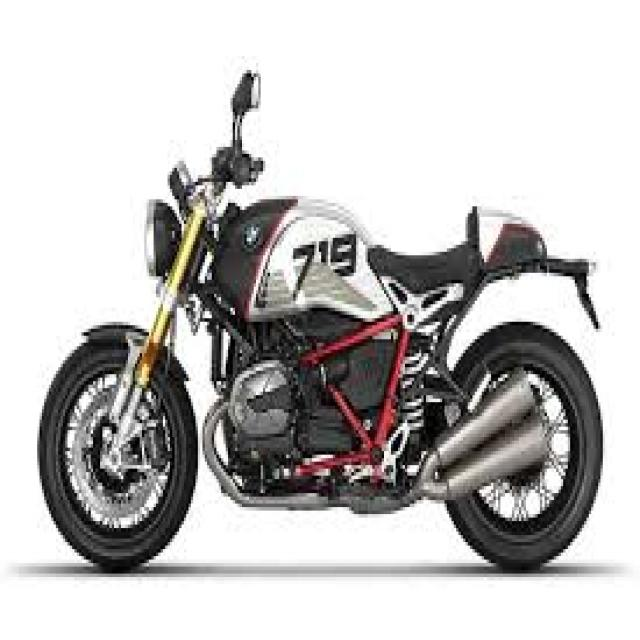Bike: (36, 70, 606, 576)
